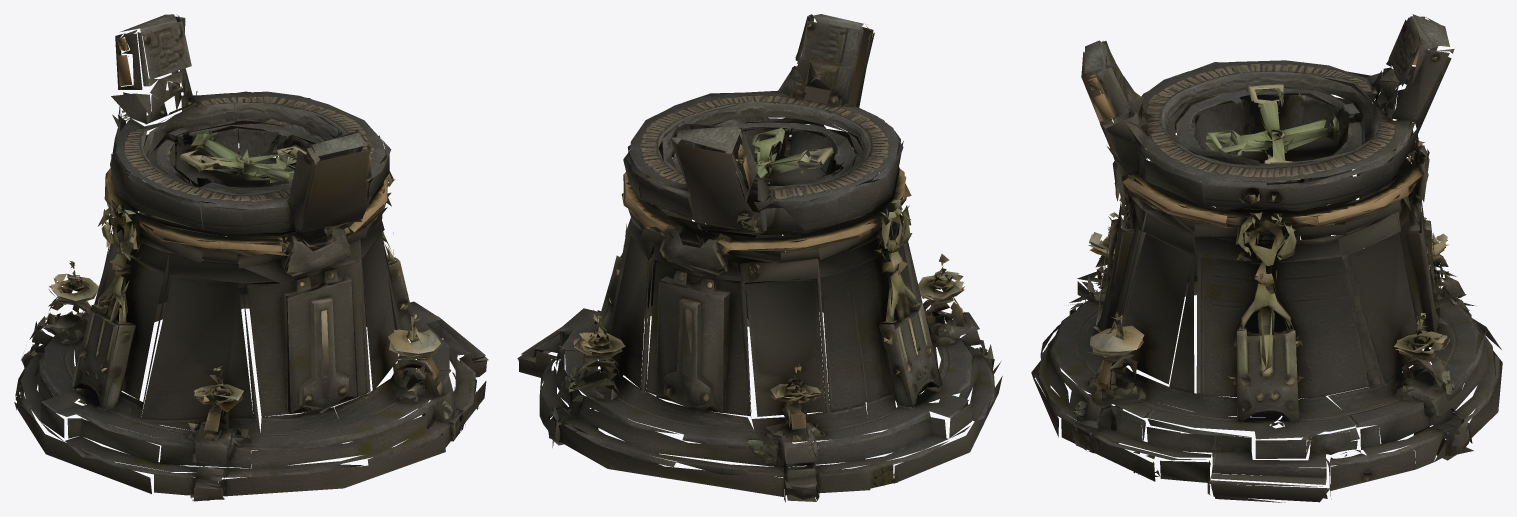
The model's file is ch8_harmonic_key_altar_LOD2.glb.
The picture shows the model from 3 angles, left to right: view 1: azimuth 30°, elevation 25°; view 2: azimuth 150°, elevation 25°; view 3: azimuth 270°, elevation 25°; orthographic projection. The views are drawn at different scales.
Visible parts, largest first — view 1: tripo_node_63062fc4-c9be-4fcc-b88b-4483c87d165c; view 2: tripo_node_63062fc4-c9be-4fcc-b88b-4483c87d165c; view 3: tripo_node_63062fc4-c9be-4fcc-b88b-4483c87d165c.
Boxes of the visible parts, x1,y1,x2,y2 form: tripo_node_63062fc4-c9be-4fcc-b88b-4483c87d165c: (14, 14, 488, 501); tripo_node_63062fc4-c9be-4fcc-b88b-4483c87d165c: (517, 14, 1002, 502); tripo_node_63062fc4-c9be-4fcc-b88b-4483c87d165c: (1031, 14, 1502, 502).
Size of the model in its own units: 1 by 0.7733 by 0.9208.
Materials: 1 (1 with a texture image).
